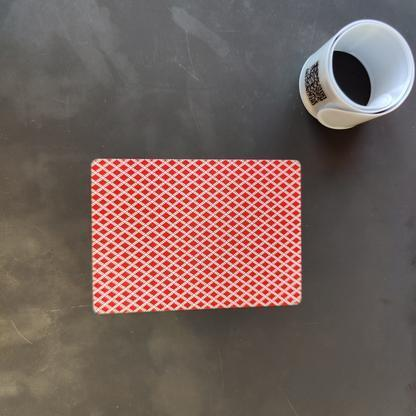card: (77, 147, 312, 316)
